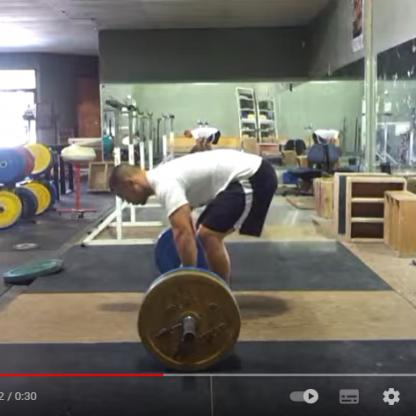Barbell: (136, 263, 246, 371)
